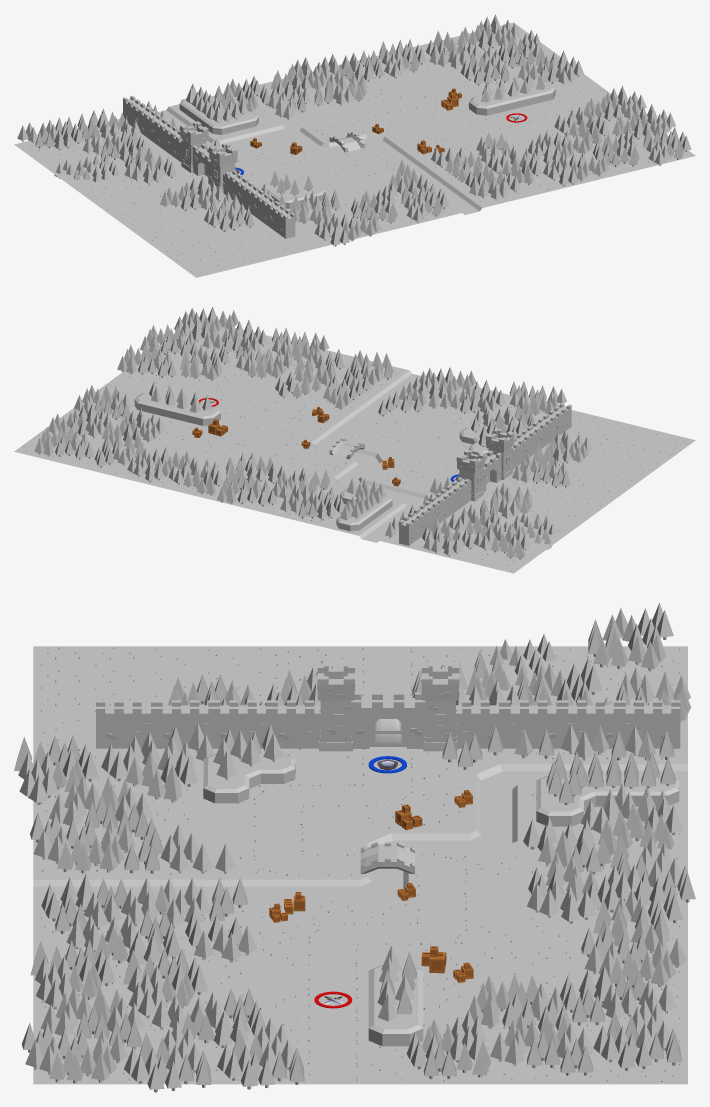
File: Map.fbx
3 views of the same model, one above another, from view 1: azimuth 30°, elevation 25°; view 2: azimuth 150°, elevation 25°; view 3: azimuth 270°, elevation 25° (orthographic). The views are drawn at different scales.
Parts seen in each view (by area): view 1: Yol,Kale,Köprü,Oluk, Sandıks; view 2: Yol,Kale,Köprü,Oluk, Sandıks; view 3: Yol,Kale,Köprü,Oluk, Sandıks.
Boxes of the visible parts, x1,y1,x2,y2 form: Yol,Kale,Köprü,Oluk: (14,14,695,277); Sandıks: (250,88,461,154); Yol,Kale,Köprü,Oluk: (14,306,695,573); Sandıks: (192,406,400,486); Yol,Kale,Köprü,Oluk: (14,603,695,1092); Sandıks: (269,790,473,982).
Bounding box in the file's own units: 24953 × 2170 × 15906.
